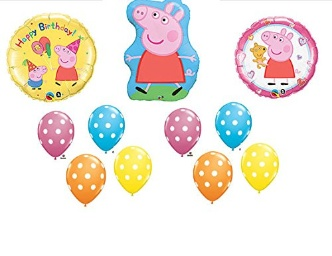Peppa: (126, 4, 192, 96), (261, 27, 298, 87), (54, 39, 80, 86)
